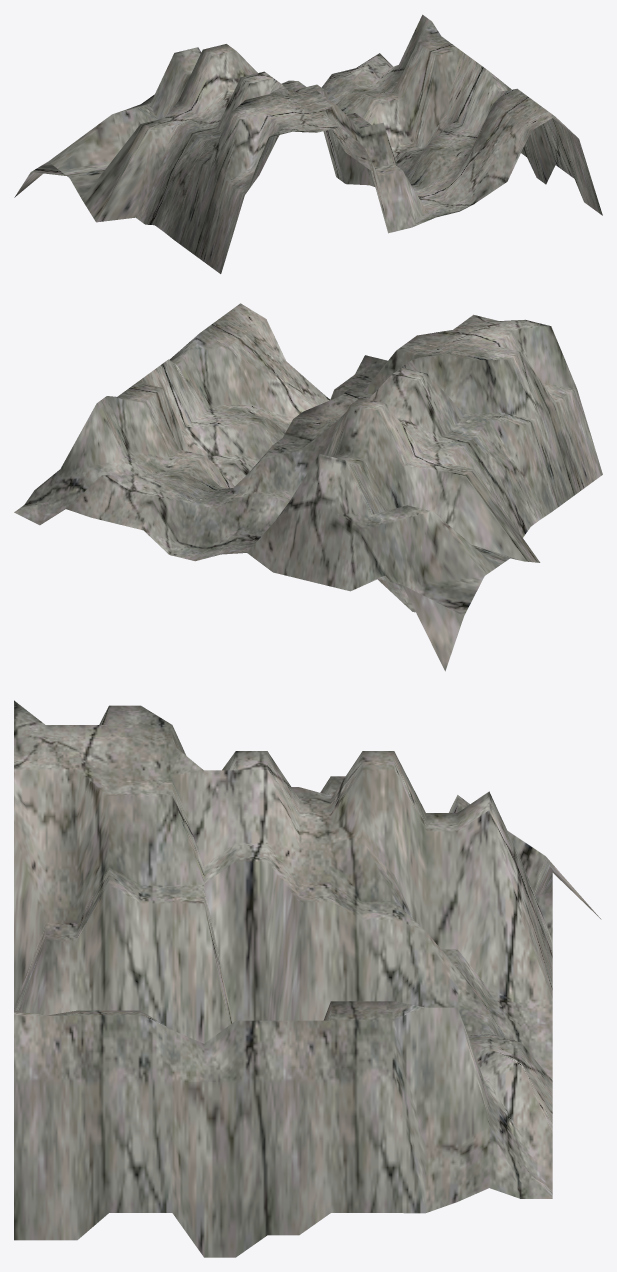
Rendered from DWARF_PALACE_GEAR_ROOM_CELLINGA.fbx.
3 views of the same model, one above another, from view 1: azimuth 30°, elevation 25°; view 2: azimuth 150°, elevation 25°; view 3: azimuth 270°, elevation 25° (orthographic). The views are drawn at different scales.
Visible parts, largest first — view 1: DWARF_PALACE_GEAR_ROOM_CELLINGA; view 2: DWARF_PALACE_GEAR_ROOM_CELLINGA; view 3: DWARF_PALACE_GEAR_ROOM_CELLINGA.
Boxes of the visible parts, left/top/right/bottom form: DWARF_PALACE_GEAR_ROOM_CELLINGA: left=14, top=14, right=602, bottom=273; DWARF_PALACE_GEAR_ROOM_CELLINGA: left=14, top=303, right=602, bottom=671; DWARF_PALACE_GEAR_ROOM_CELLINGA: left=14, top=700, right=601, bottom=1257.
Bounding box in the file's own units: 329691 × 129274 × 242127.
Materials: 1 (1 with a texture image).
